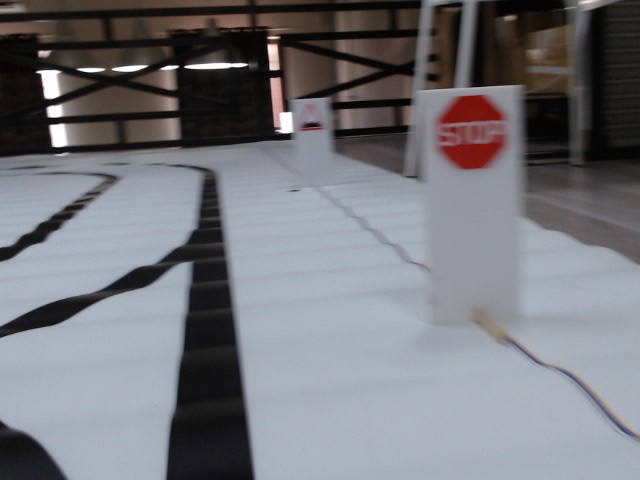Nerov: (298, 103, 327, 135)
Stop: (435, 94, 512, 170)
